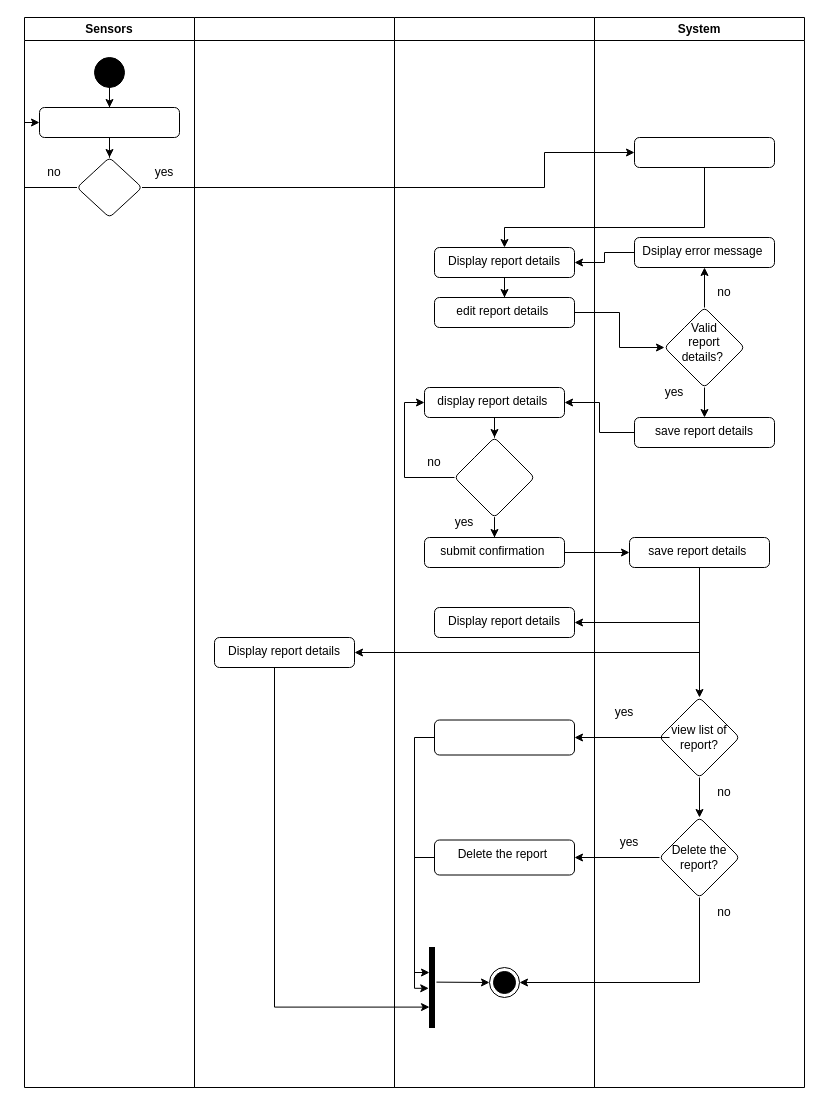
Image size: 822x1105. Some labels were removed from this diagram. The shapes that lost their labels are listed below. From the top down, each one's box as (x1, y1, x2, y2) in pixels, then its label:
(38, 106, 180, 138): Sensor data log
(634, 136, 774, 168): Generate Report
(76, 156, 142, 218): Status = "Fire"
(454, 436, 534, 518): position = "chief"
(194, 16, 394, 1088): User
(394, 16, 594, 1088): BOMBA
(434, 719, 574, 755): Display a list of report details
